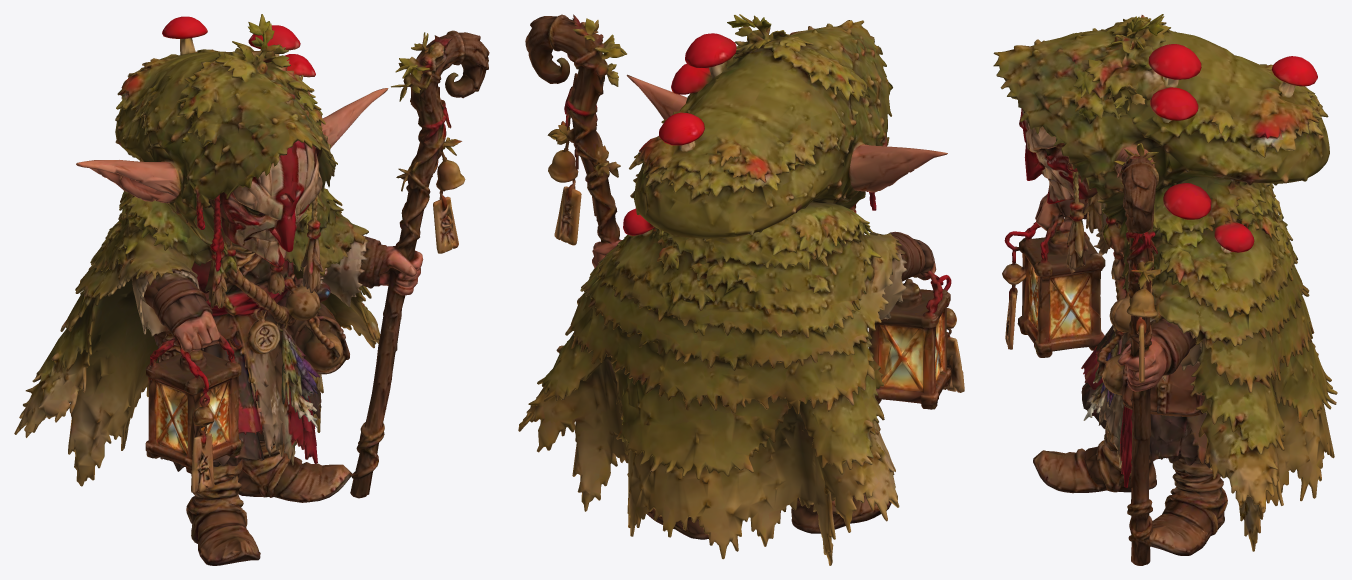
The model's file is figurine-lutin_green.glb.
3 renders of one model, left to right at view 1: azimuth 30°, elevation 25°; view 2: azimuth 150°, elevation 25°; view 3: azimuth 270°, elevation 25°, orthographic. The views are drawn at different scales.
Visible parts, largest first — view 1: tripo_node_e812dab3-c32c-40be-a1e2-4e5317dd583b; view 2: tripo_node_e812dab3-c32c-40be-a1e2-4e5317dd583b; view 3: tripo_node_e812dab3-c32c-40be-a1e2-4e5317dd583b.
Boxes of the visible parts, left/top/right/bottom form: tripo_node_e812dab3-c32c-40be-a1e2-4e5317dd583b: left=14, top=14, right=489, bottom=565; tripo_node_e812dab3-c32c-40be-a1e2-4e5317dd583b: left=518, top=14, right=964, bottom=565; tripo_node_e812dab3-c32c-40be-a1e2-4e5317dd583b: left=993, top=14, right=1337, bottom=565.
Size of the model in its own units: 0.8559 by 0.98 by 0.6063.
Materials: 1 (1 with a texture image).
